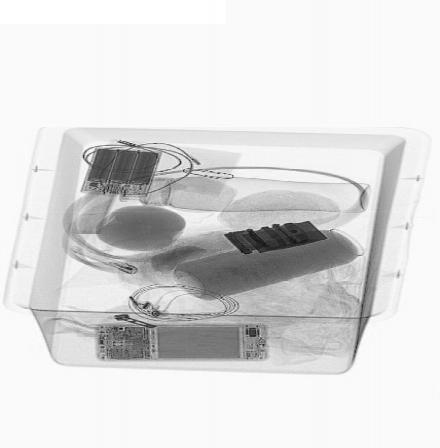Lighter: (64, 244, 146, 275)
